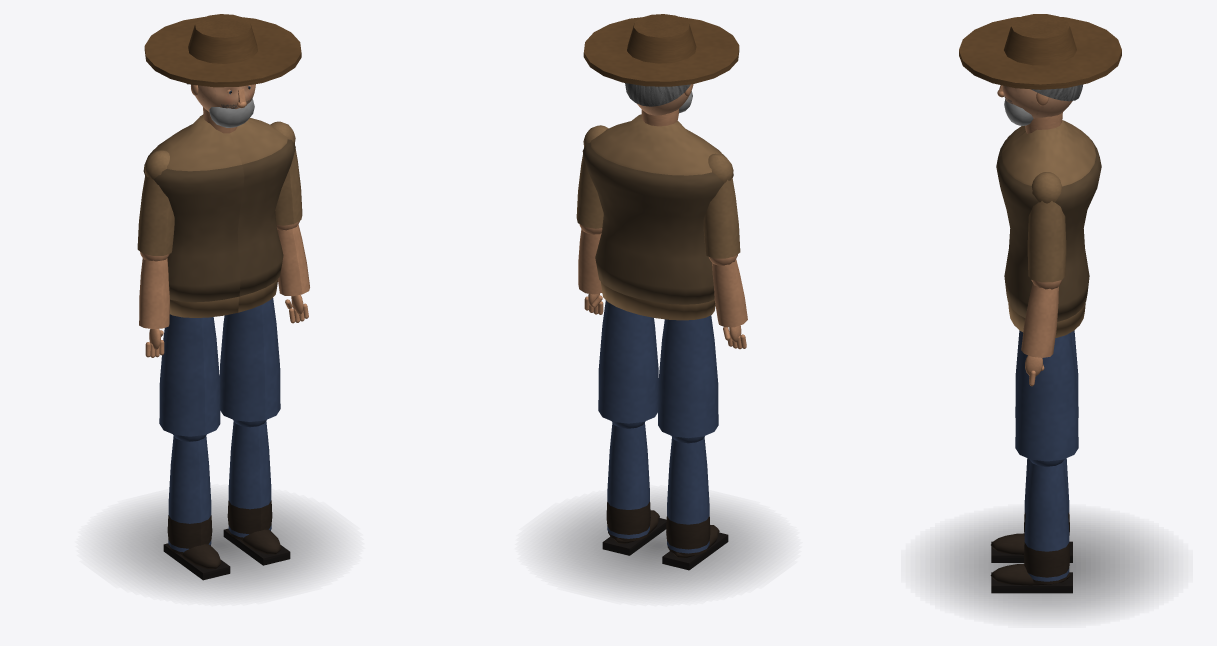
The model's file is npc_hollis.glb.
3 views of the same model, side by side, from view 1: azimuth 30°, elevation 25°; view 2: azimuth 150°, elevation 25°; view 3: azimuth 270°, elevation 25° (orthographic). The views are drawn at different scales.
Visible parts, largest first — view 1: chest, object 11, head, legL, legR, shinR, shinL, armL, foreL, foreR, armR; view 2: chest, object 11, head, legL, legR, shinL, shinR, armL, foreL, foreR, armR; view 3: object 11, chest, head, shinR, legR, armR, foreR, shinL, legL.
Boxes of the visible parts, x1,y1,x2,y2 form: chest: [143, 107, 295, 317]; object 11: [105, 496, 335, 593]; head: [144, 14, 301, 127]; legL: [159, 314, 220, 436]; legR: [219, 298, 280, 421]; shinR: [223, 420, 290, 565]; shinL: [163, 434, 230, 580]; armL: [137, 150, 174, 255]; foreL: [139, 251, 169, 357]; foreR: [276, 221, 309, 323]; armR: [270, 121, 302, 225]; chest: [582, 109, 733, 320]; object 11: [544, 497, 772, 593]; head: [583, 14, 739, 115]; legL: [658, 315, 718, 438]; legR: [598, 300, 658, 423]; shinL: [662, 436, 728, 570]; shinR: [602, 421, 666, 555]; armL: [703, 153, 740, 258]; foreL: [709, 254, 747, 349]; foreR: [578, 224, 603, 314]; armR: [576, 125, 608, 228]; object 11: [930, 517, 1163, 615]; chest: [996, 112, 1101, 337]; head: [959, 14, 1121, 125]; shinR: [990, 459, 1072, 593]; legR: [1015, 332, 1078, 461]; armR: [1027, 172, 1066, 282]; foreR: [1021, 280, 1061, 386]; shinL: [991, 458, 1072, 562]; legL: [1015, 330, 1078, 417].
Size of the model in its own units: 0.9548 by 1.84 by 0.9548.
6 materials, 5 textured.
